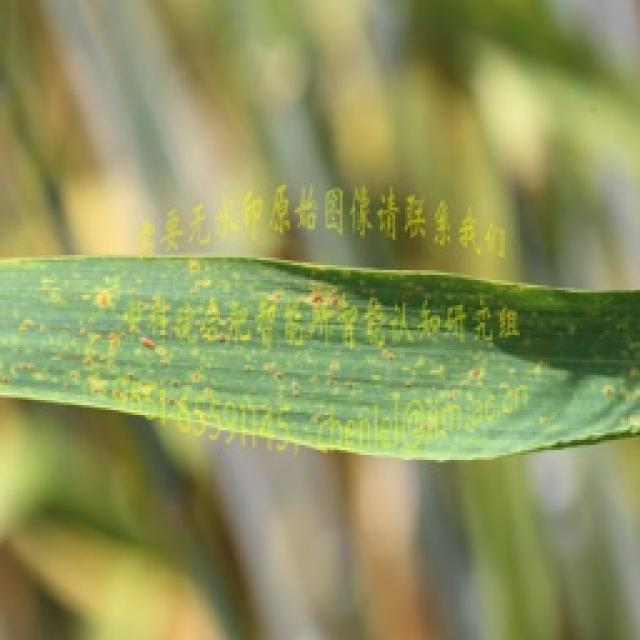Black Rust: (0, 248, 638, 462)
